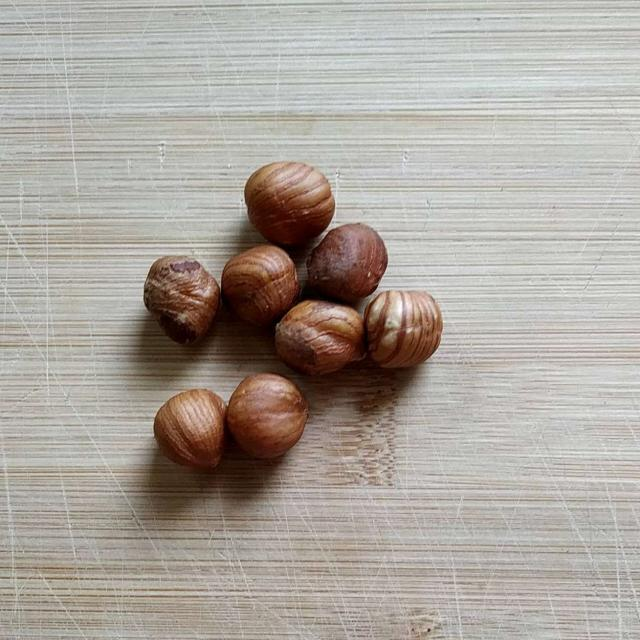hazelnut: (147, 163, 436, 463)
